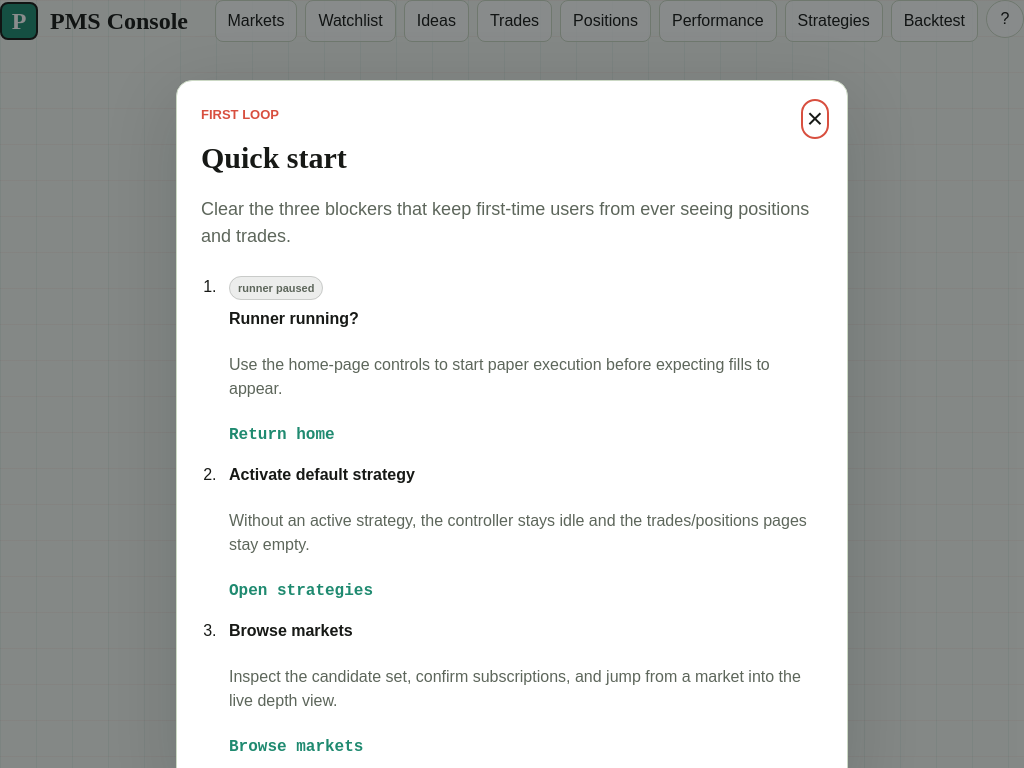
Test: OnboardingPanel › dismiss button persists the onboarding key
This screenshot has width=1024, height=768.
Click the button named "Dismiss onboarding" at point(815, 119), box [807,105,823,133]
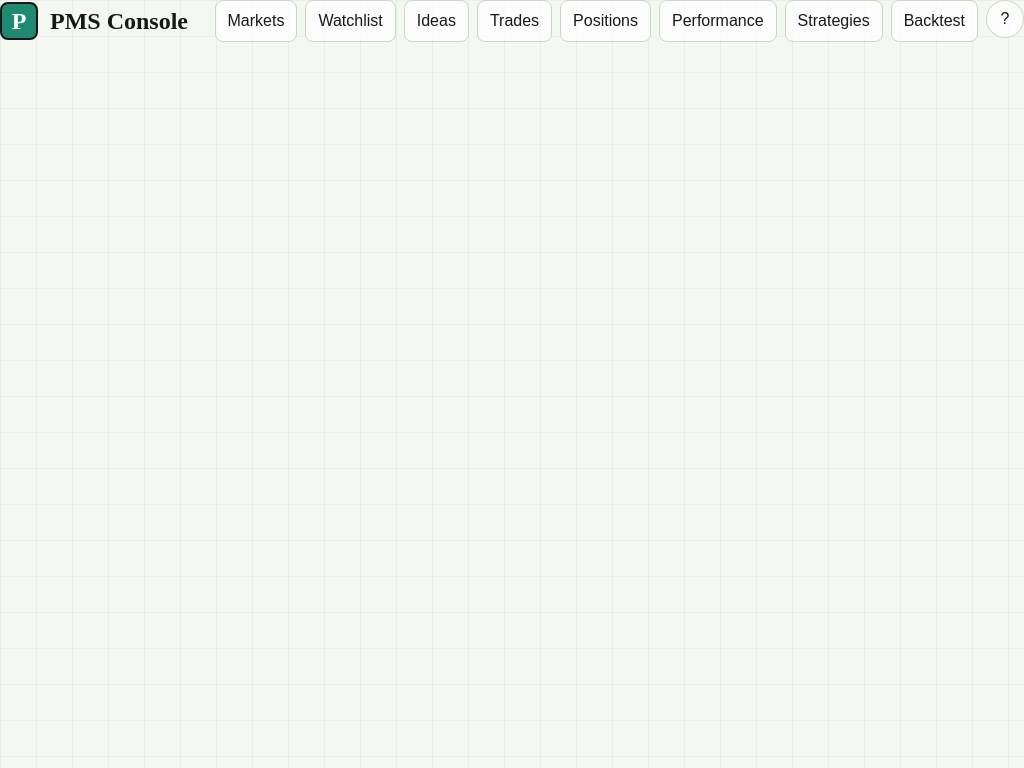
Expected: the heading "Quick start" is gone
